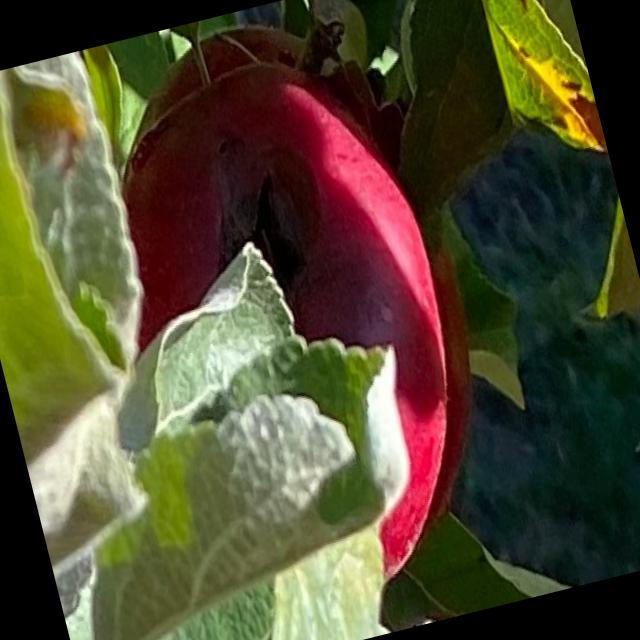Apples: (133, 0, 509, 572), (109, 55, 492, 616)
